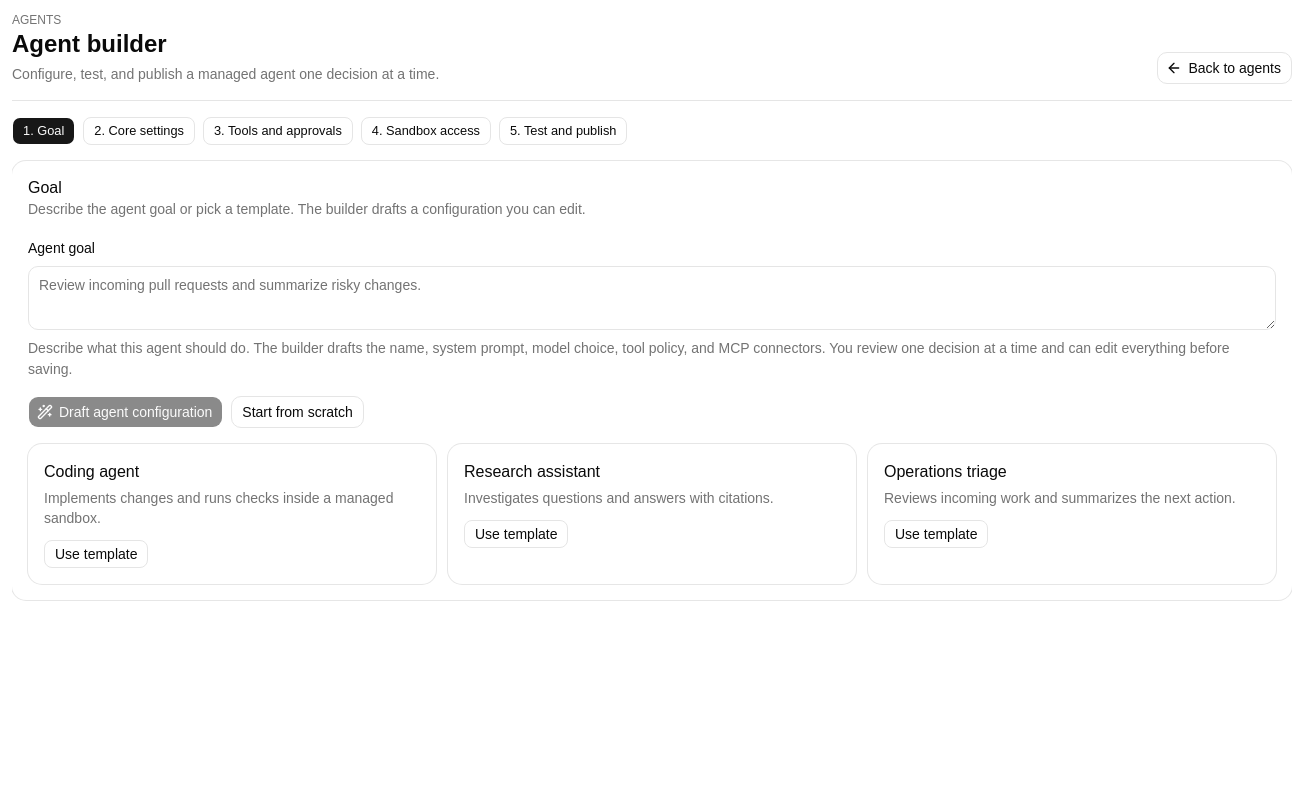
it: [spec: agents/builder] AgentBuilderPage › clicking Skip on start step navigates to core step
Click the button "Start from scratch".
click(298, 412)  # box [231, 396, 364, 428]
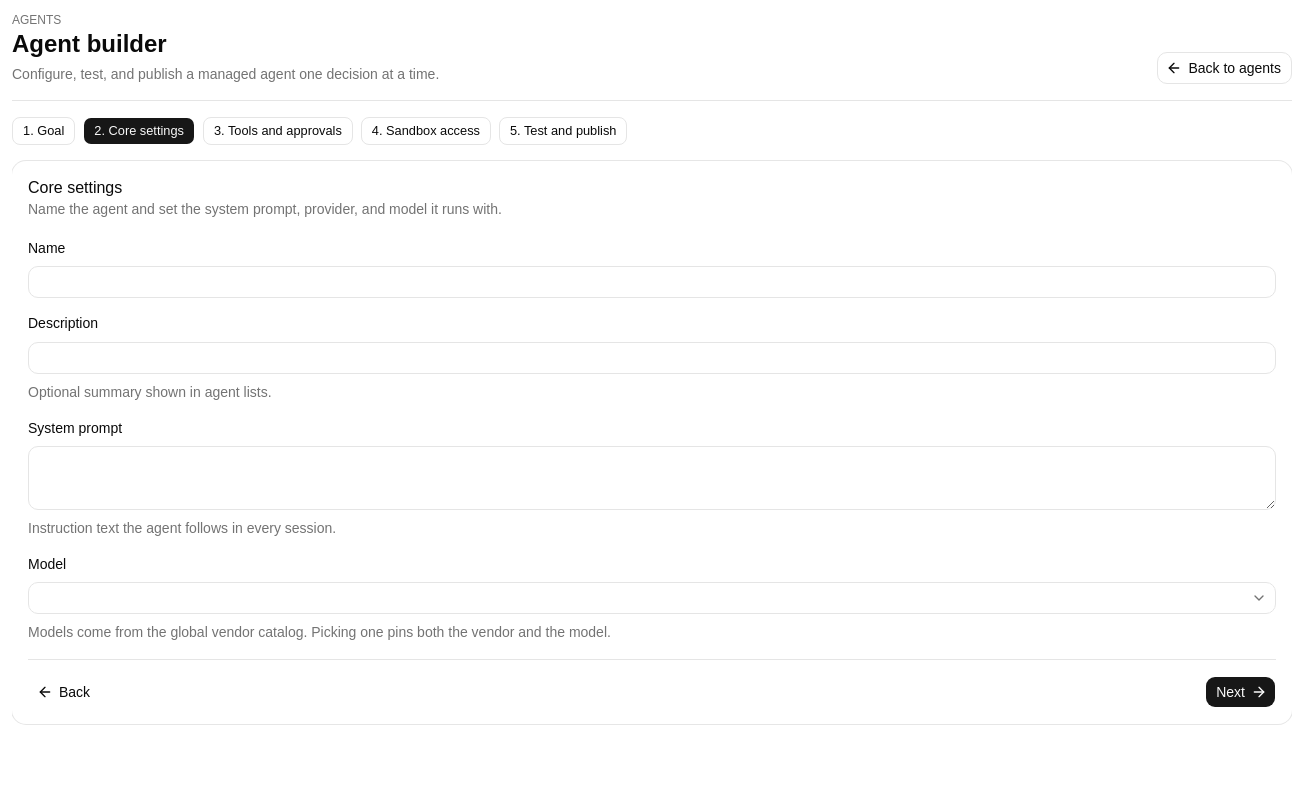
Expected: the field labelled "Name" is shown, [28, 266, 1276, 298]
